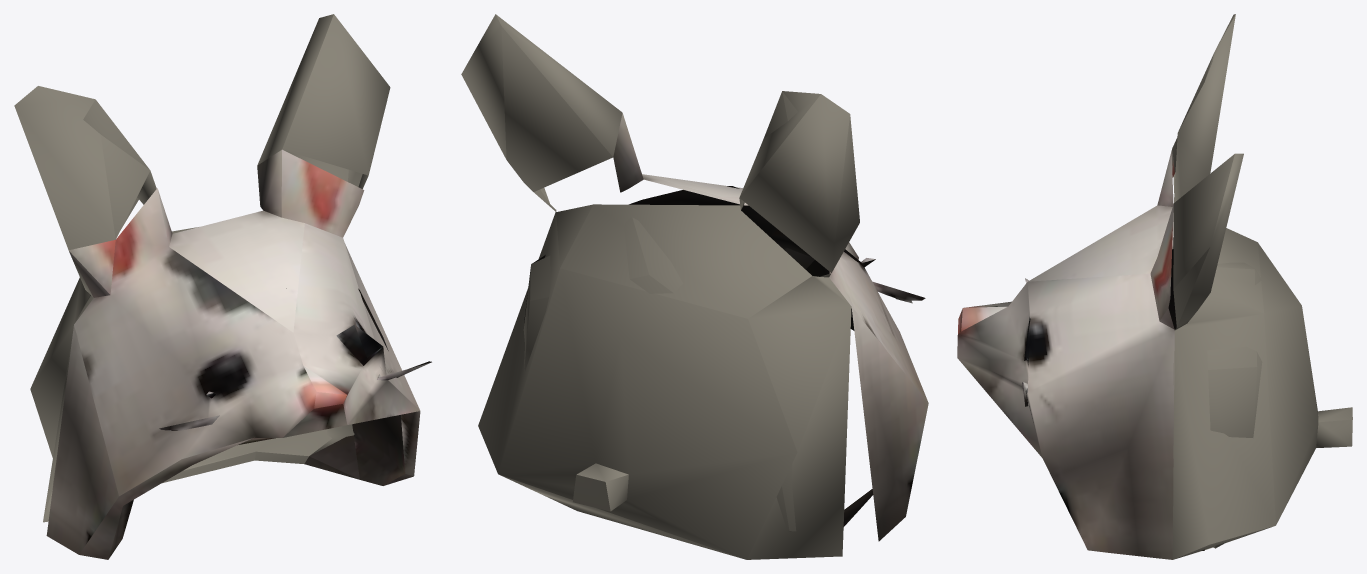
File: rabbit.glb
3 views of the same model, side by side, from view 1: azimuth 30°, elevation 25°; view 2: azimuth 150°, elevation 25°; view 3: azimuth 270°, elevation 25° (orthographic). The views are drawn at different scales.
Visible parts, largest first — view 1: geometry_0; view 2: geometry_0; view 3: geometry_0.
Part boxes in pixels (x1,y1,x2,y2): geometry_0: (14, 14, 431, 559); geometry_0: (461, 14, 928, 559); geometry_0: (957, 14, 1352, 559).
Size of the model in its own units: 0.4355 by 0.4964 by 0.423.
2 materials, 1 textured.
